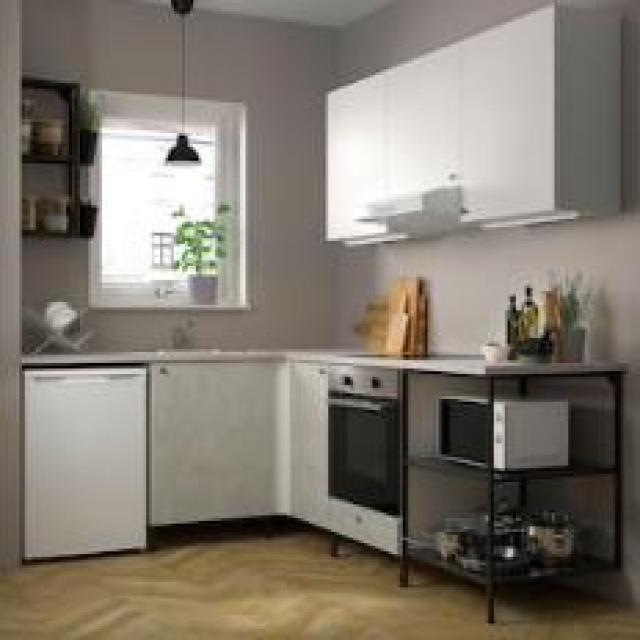dishwasher: (20, 363, 144, 554)
